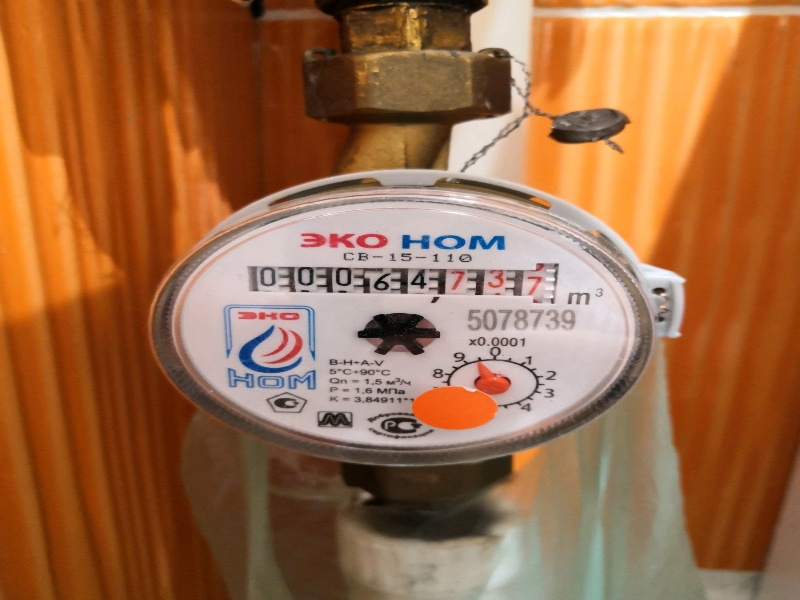dial: (232, 256, 558, 304)
